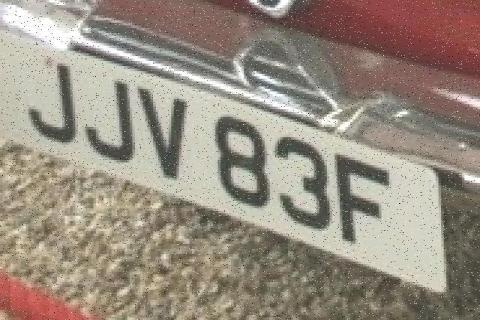LicensePlate: (0, 25, 457, 295)
